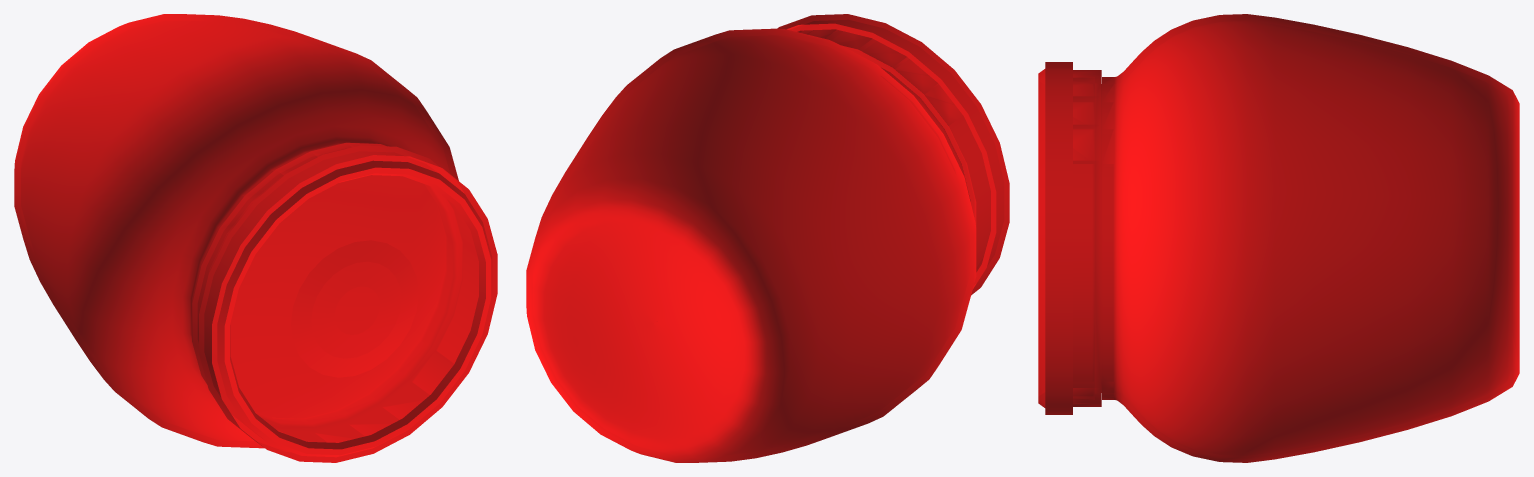
Rendered from model_scale.obj.
3 views of the same model, side by side, from view 1: azimuth 30°, elevation 25°; view 2: azimuth 150°, elevation 25°; view 3: azimuth 270°, elevation 25° (orthographic). The views are drawn at different scales.
Parts seen in each view (by area): view 1: mesh12_mesh12-geometry, mesh13_mesh13-geometry, mesh1_mesh1-geometry, mesh14_mesh14-geometry; view 2: mesh13_mesh13-geometry, mesh12_mesh12-geometry, mesh1_mesh1-geometry, mesh14_mesh14-geometry; view 3: mesh12_mesh12-geometry, mesh13_mesh13-geometry, mesh1_mesh1-geometry.
Boxes of the visible parts, bbox=[...] form: mesh12_mesh12-geometry: bbox=[21, 21, 478, 442]; mesh13_mesh13-geometry: bbox=[14, 14, 458, 448]; mesh1_mesh1-geometry: bbox=[199, 145, 497, 462]; mesh14_mesh14-geometry: bbox=[193, 143, 383, 380]; mesh13_mesh13-geometry: bbox=[526, 28, 976, 462]; mesh12_mesh12-geometry: bbox=[533, 29, 990, 455]; mesh1_mesh1-geometry: bbox=[777, 14, 1009, 295]; mesh14_mesh14-geometry: bbox=[840, 45, 976, 226]; mesh12_mesh12-geometry: bbox=[1073, 21, 1511, 455]; mesh13_mesh13-geometry: bbox=[1102, 14, 1519, 462]; mesh1_mesh1-geometry: bbox=[1038, 62, 1072, 414].
Size of the model in its own units: 0.1503 by 0.1503 by 0.1624.
